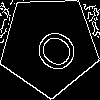O: (24, 20, 82, 78)
